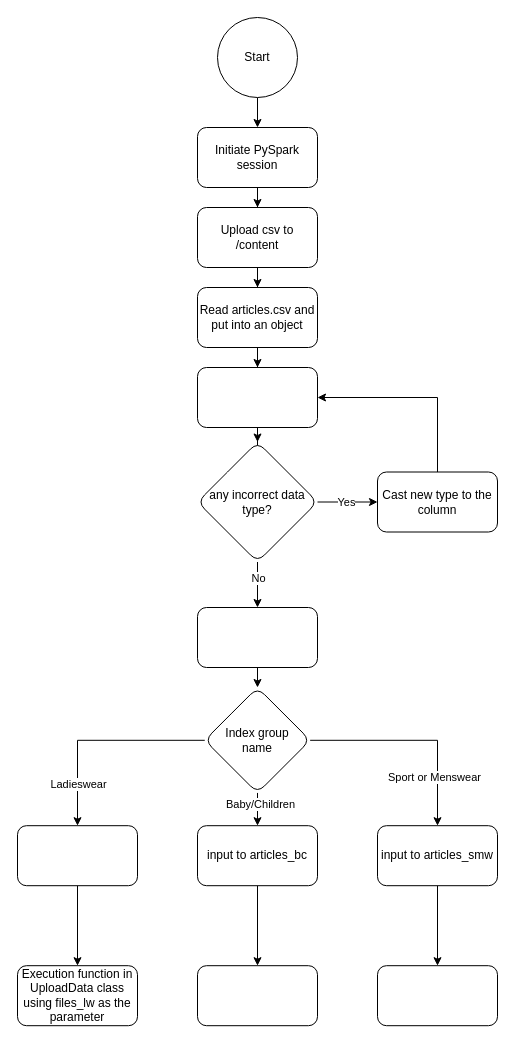
This 515x1044 diagram has some shape labels left out. The box of each missing label's shape, as (x1, y1, x2, y2) in pixels:
Check each column data type: (196, 366, 318, 428)
Create a class with function for creating endpoint and uploading to s3: (196, 606, 318, 668)
Execution function in UploadData class using files_bc as the parameter: (196, 965, 318, 1026)
Execution function in UploadData class using files_smw as the parameter: (376, 965, 498, 1026)
input to articles_lw: (16, 825, 138, 886)
